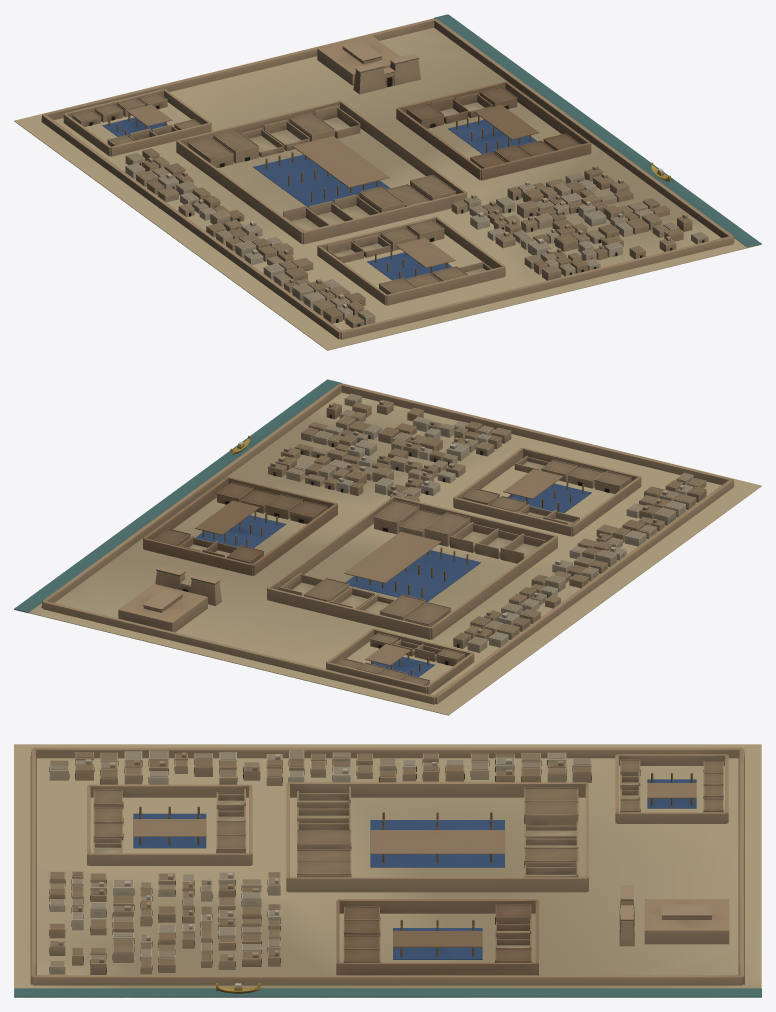
The model's file is malkata.glb.
The picture shows the model from 3 angles, top to bottom: view 1: azimuth 30°, elevation 25°; view 2: azimuth 150°, elevation 25°; view 3: azimuth 270°, elevation 25°; orthographic projection. The views are drawn at different scales.
Visible parts, largest first — view 1: p0_walls, p1_palaces, p2_houses; view 2: p0_walls, p1_palaces, p2_houses; view 3: p0_walls, p1_palaces, p2_houses.
Part boxes in pixels (x1,y1,x2,y2): p0_walls: [14, 14, 761, 350]; p1_palaces: [63, 35, 591, 305]; p2_houses: [125, 148, 708, 328]; p0_walls: [14, 379, 761, 715]; p1_palaces: [118, 447, 641, 694]; p2_houses: [268, 393, 706, 652]; p0_walls: [14, 744, 761, 997]; p1_palaces: [87, 754, 729, 975]; p2_houses: [49, 750, 591, 974].
Bounding box in the file's own units: 240 × 12.02 × 300.
